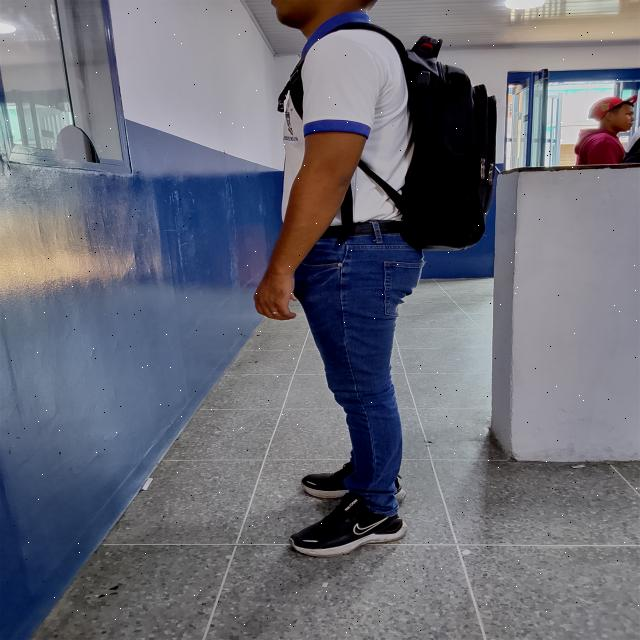uniforme_superior: (281, 11, 415, 226)
